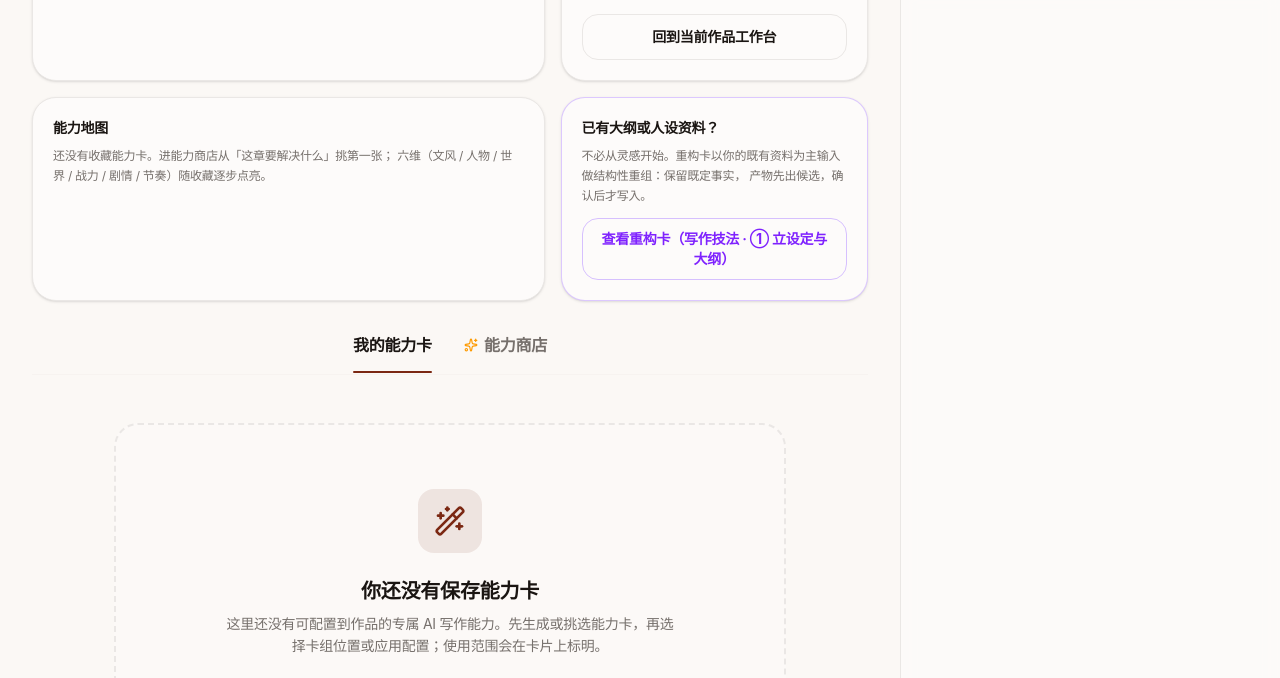
it: Plan 158 capability center › applies staged package configuration directly from the package dialog
(page scrolled)
Click the button "能力商店" at x=505, y=352, box x1=464 y1=332 x2=547 y2=372
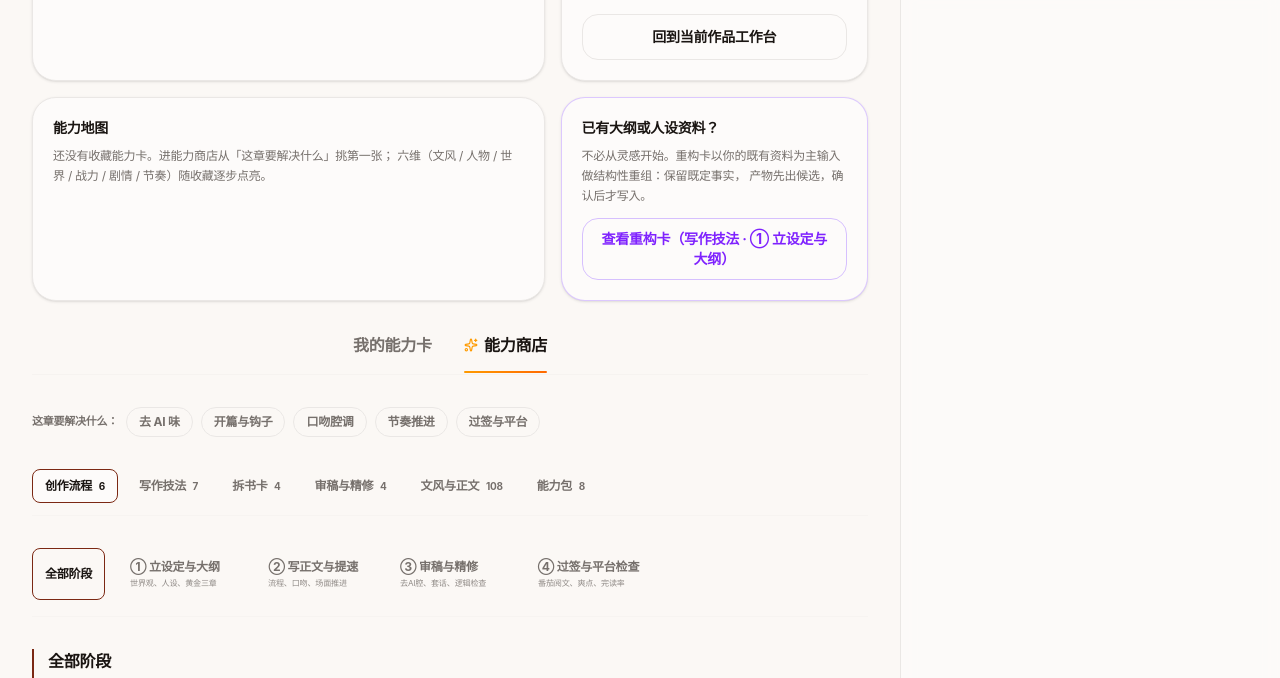
Expected: the tab "能力包 8" is shown
Click the tab "能力包 8" at x=561, y=486, box x1=524 y1=468 x2=598 y2=502
(page scrolled)
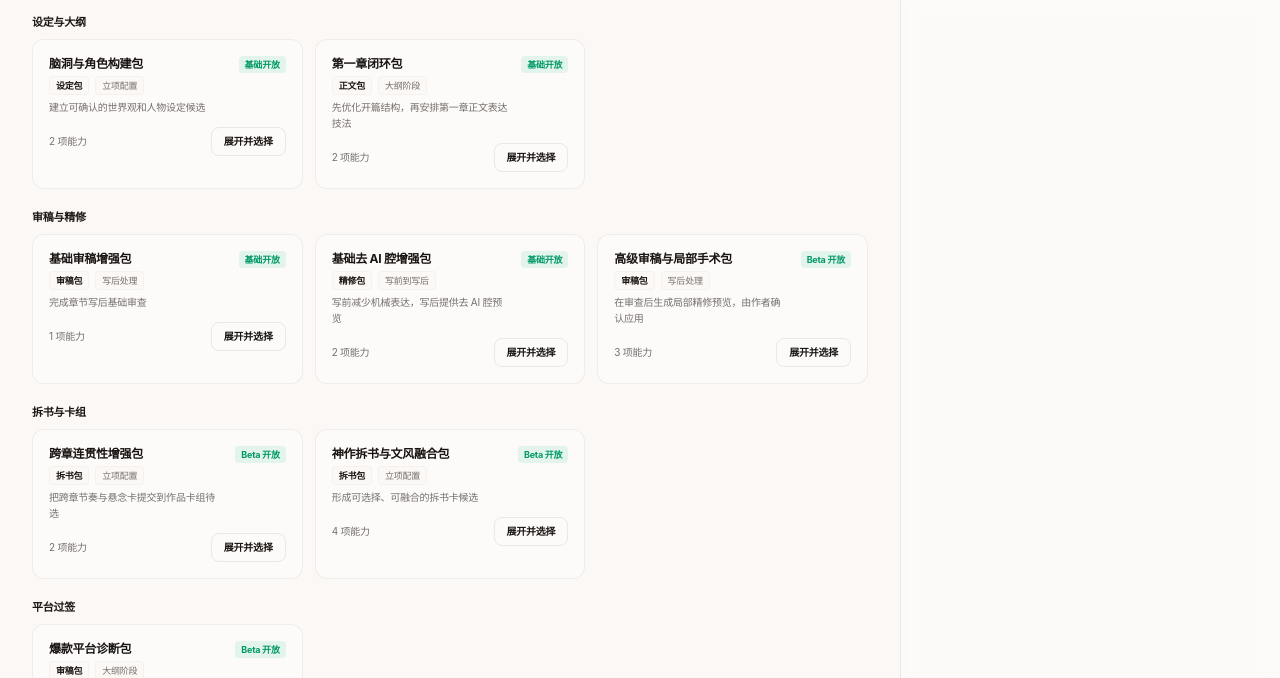
Click the button "展开并选择" below "写前减少机械表达，写后提供去 AI 腔预览" at x=531, y=352, box x1=494 y1=338 x2=568 y2=367
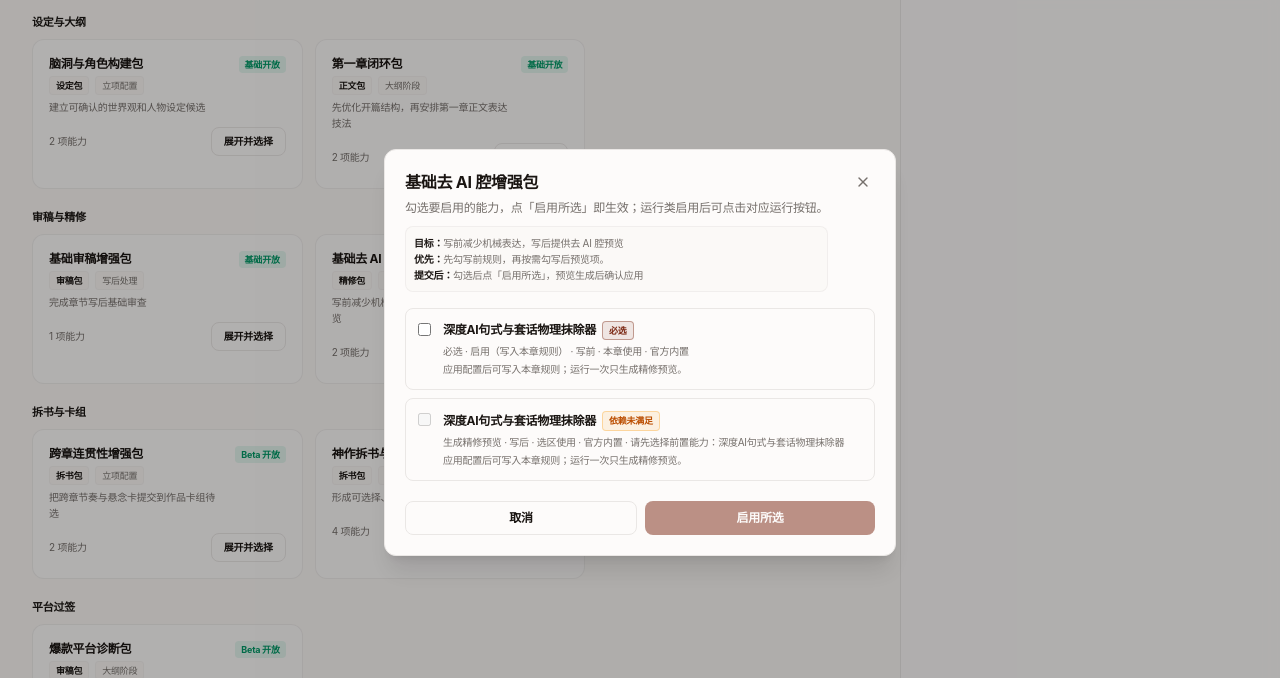
Click the 1st checkbox named "选择 深度AI句式与套话物理抹除器" at x=424, y=329, box x1=418 y1=322 x2=431 y2=336
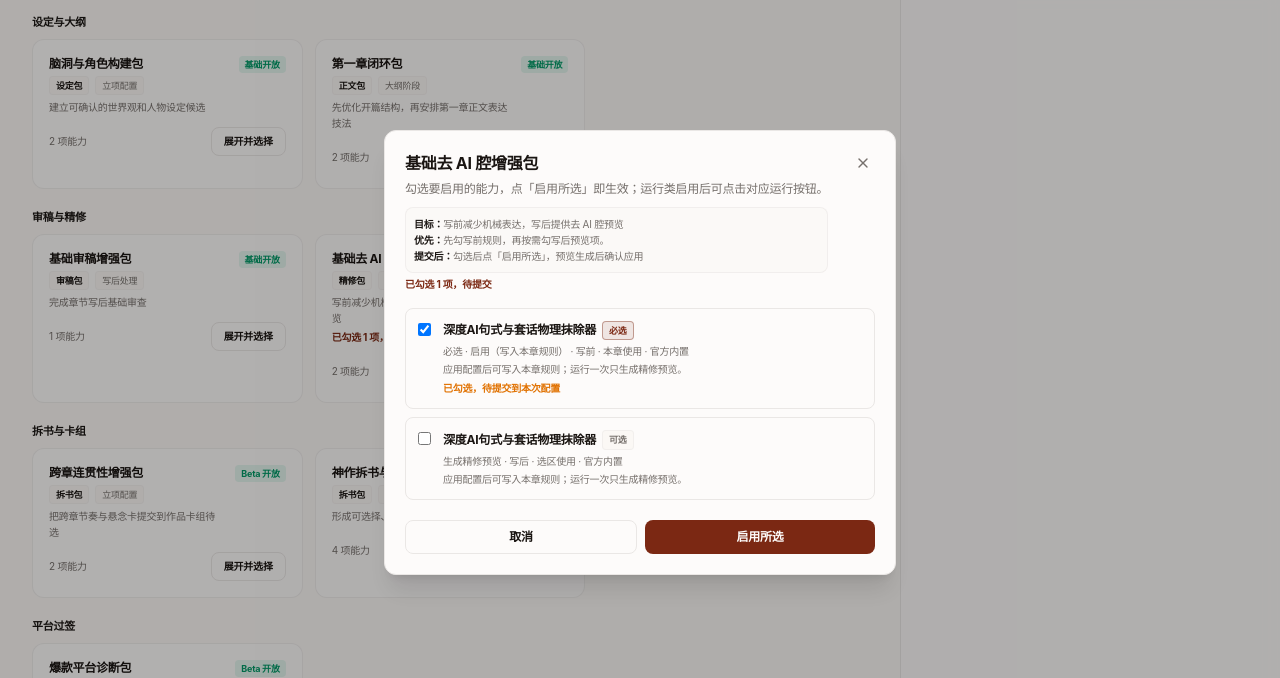
Expected: the 1st checkbox named "选择 深度AI句式与套话物理抹除器" is checked, x1=418 y1=322 x2=431 y2=336
Click the button "启用所选" at x=760, y=536, box x1=645 y1=520 x2=875 y2=554
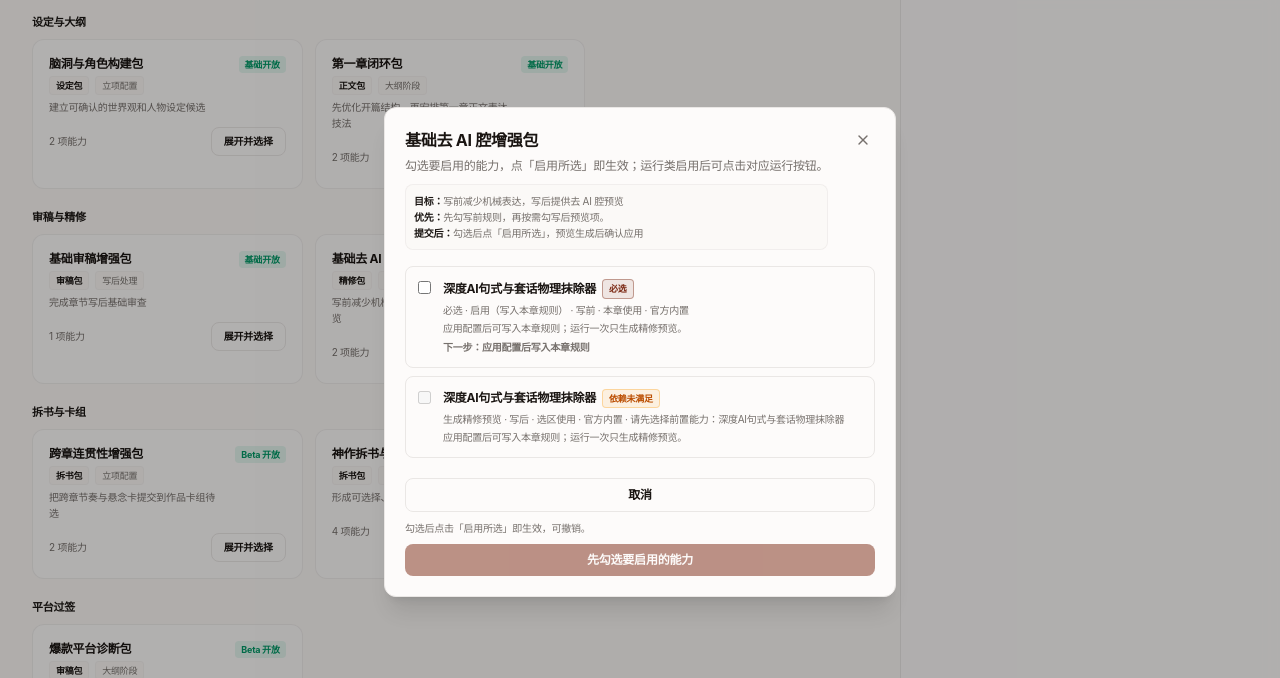
Expected: the text "下一步：应用配置后写入本章规则" is shown, x1=443 y1=340 x2=589 y2=352
